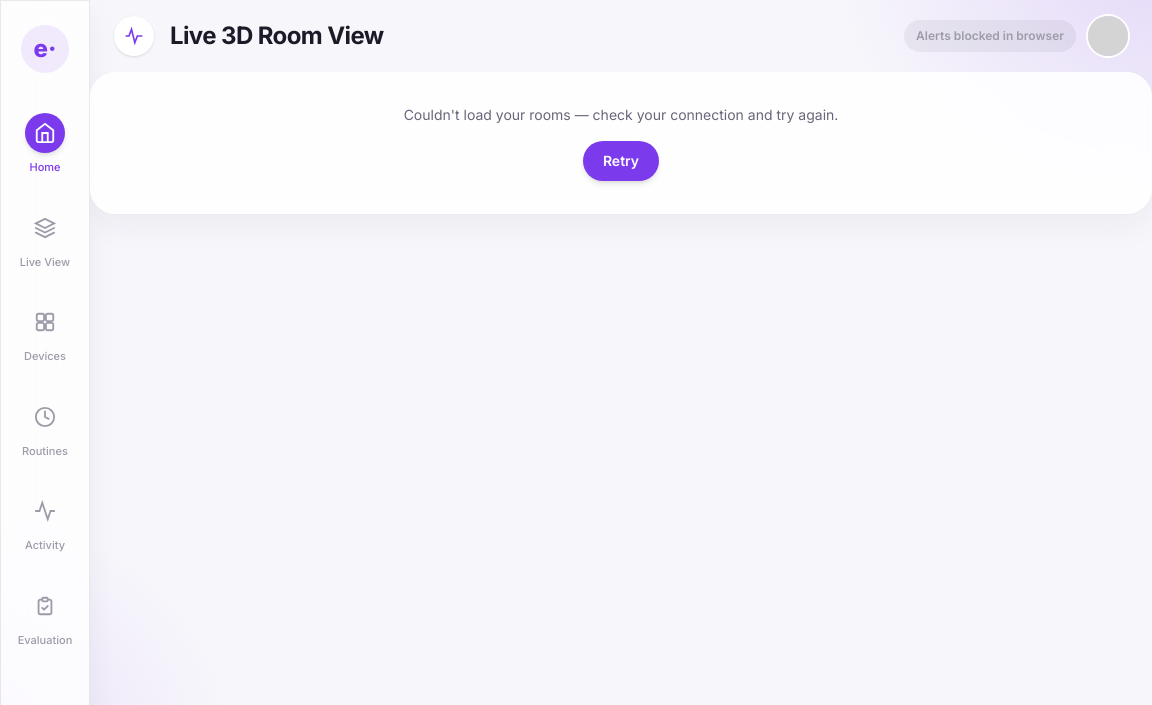
Scenario: dashboard tenancy › shows an error with a retry instead of an endless spinner when the room list fails
This screenshot has width=1152, height=705.
Click the button "Retry" at coordinates (621, 161), box [583,141,659,181]
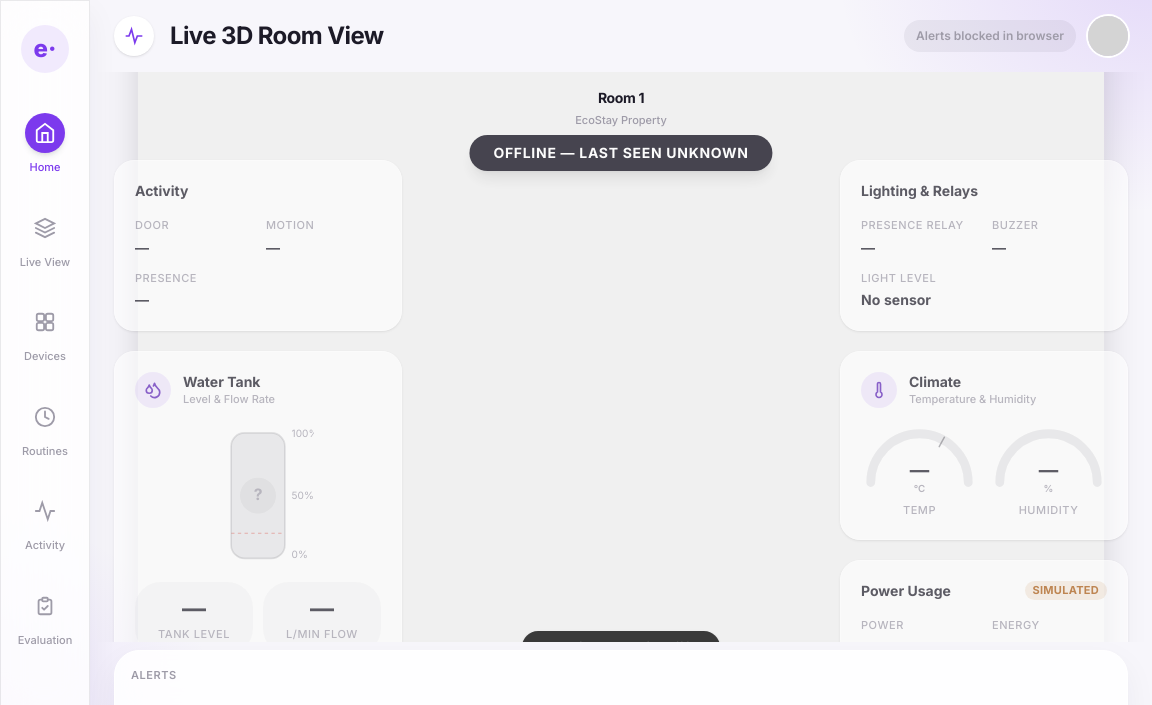
Result: the text "Room 1" is shown at [598,88,644,108]
